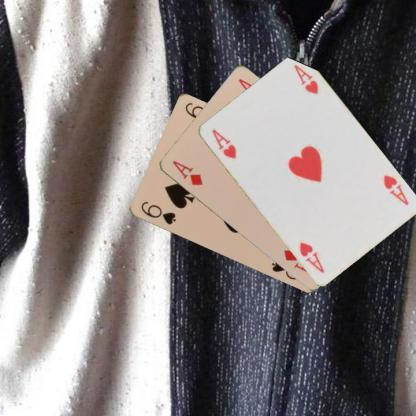6s: (138, 199, 178, 226)
Ad: (170, 158, 203, 188)
Ah: (380, 172, 410, 207), (208, 127, 238, 160)
